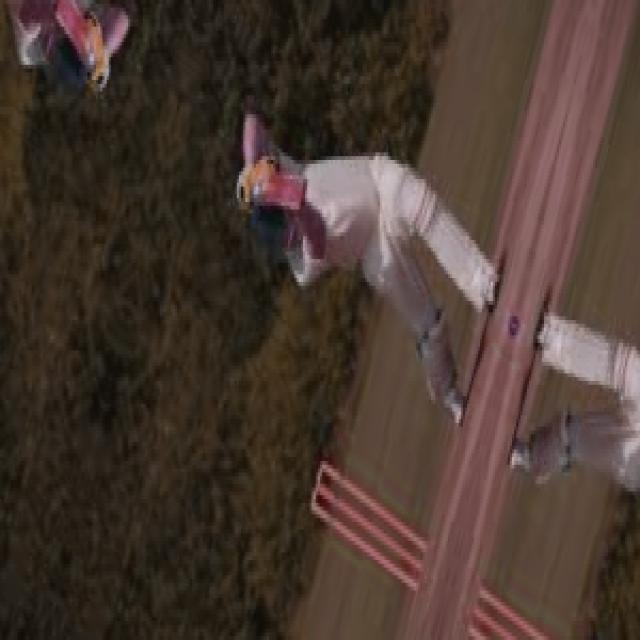bat: (247, 171, 311, 214)
toe: (292, 184, 312, 200)
